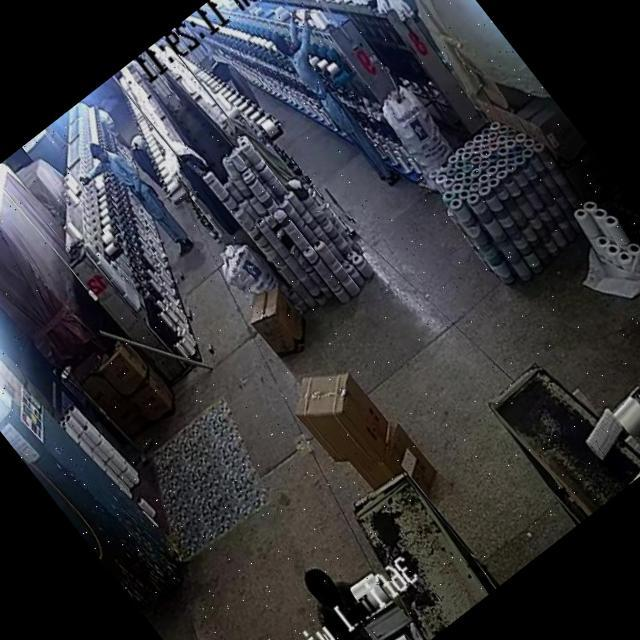person: (259, 23, 404, 196), (84, 134, 180, 245), (291, 562, 378, 640), (212, 54, 250, 96)
